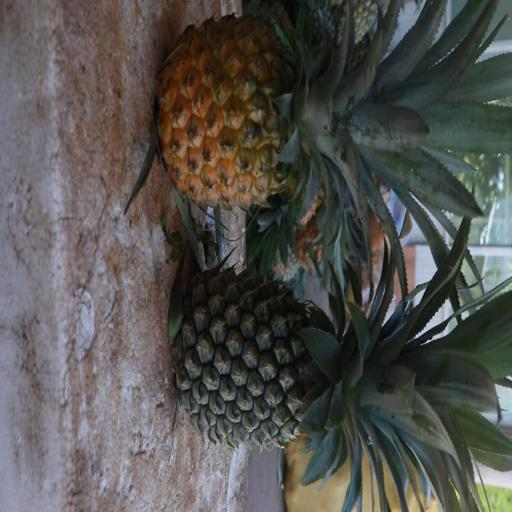Pineapple - v8 v1: (161, 28, 446, 206)
